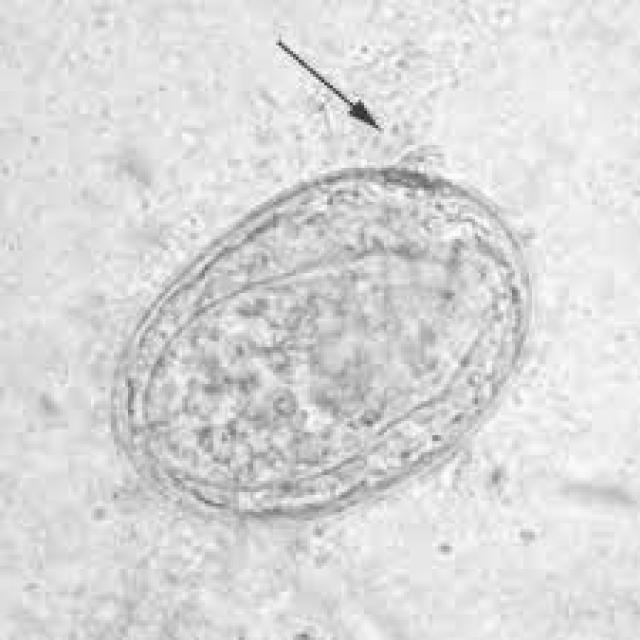Schistosoma: (99, 146, 532, 525)
